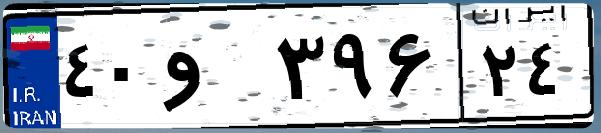0: (110, 28, 158, 98)
2: (475, 38, 525, 113)
3: (270, 28, 330, 110)
4: (57, 26, 110, 100), (525, 38, 570, 115)
6: (385, 28, 445, 110)
9: (330, 28, 385, 110)
و: (158, 20, 270, 120)
